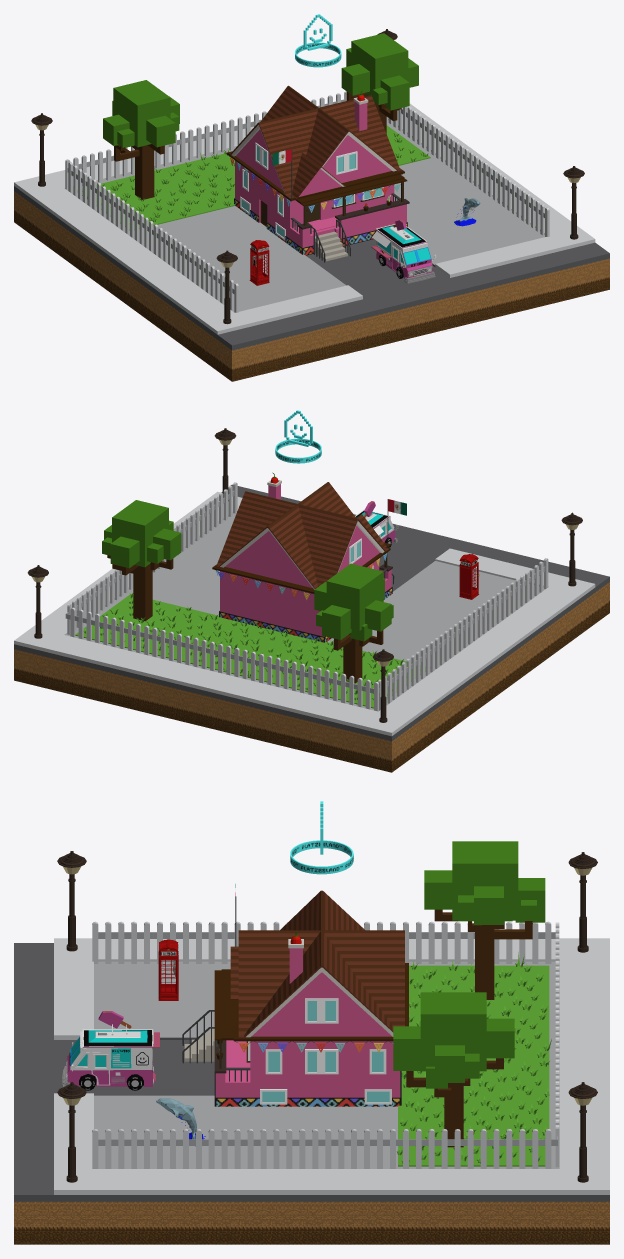
3 renders of one model, top to bottom at view 1: azimuth 30°, elevation 25°; view 2: azimuth 150°, elevation 25°; view 3: azimuth 270°, elevation 25°, orthographic. The views are drawn at different scales.
Visible parts, largest first — view 1: Cube.004, Cube.1005, VEHICLES_ICE_CREAM_TRUCK, TYPE_PREMIUM, OBJRANDOM_PHONEBOOTH; view 2: Cube.004, Cube.1005, TYPE_PREMIUM, OBJRANDOM_PHONEBOOTH, VEHICLES_ICE_CREAM_TRUCK; view 3: Cube.004, Cube.1005, VEHICLES_ICE_CREAM_TRUCK, TYPE_PREMIUM, OBJRANDOM_PHONEBOOTH, ANIMAL_DELFIN.
Boxes of the visible parts, box(x1,y1,x2,y2) form: Cube.004: box(14, 29, 609, 381); Cube.1005: box(226, 85, 409, 262); VEHICLES_ICE_CREAM_TRUCK: box(371, 219, 436, 283); TYPE_PREMIUM: box(295, 14, 341, 67); OBJRANDOM_PHONEBOOTH: box(249, 240, 269, 285); Cube.004: box(14, 428, 609, 772); Cube.1005: box(212, 472, 406, 642); TYPE_PREMIUM: box(275, 410, 321, 463); OBJRANDOM_PHONEBOOTH: box(459, 554, 479, 599); VEHICLES_ICE_CREAM_TRUCK: box(355, 501, 398, 548); Cube.004: box(14, 841, 609, 1244); Cube.1005: box(182, 884, 408, 1106); VEHICLES_ICE_CREAM_TRUCK: box(62, 1011, 159, 1090); TYPE_PREMIUM: box(290, 801, 353, 874); OBJRANDOM_PHONEBOOTH: box(158, 939, 178, 1000); ANIMAL_DELFIN: box(156, 1098, 205, 1146).
Size of the model in its own units: 4000 by 2483 by 4000.
Materials: 85 (6 with a texture image).
